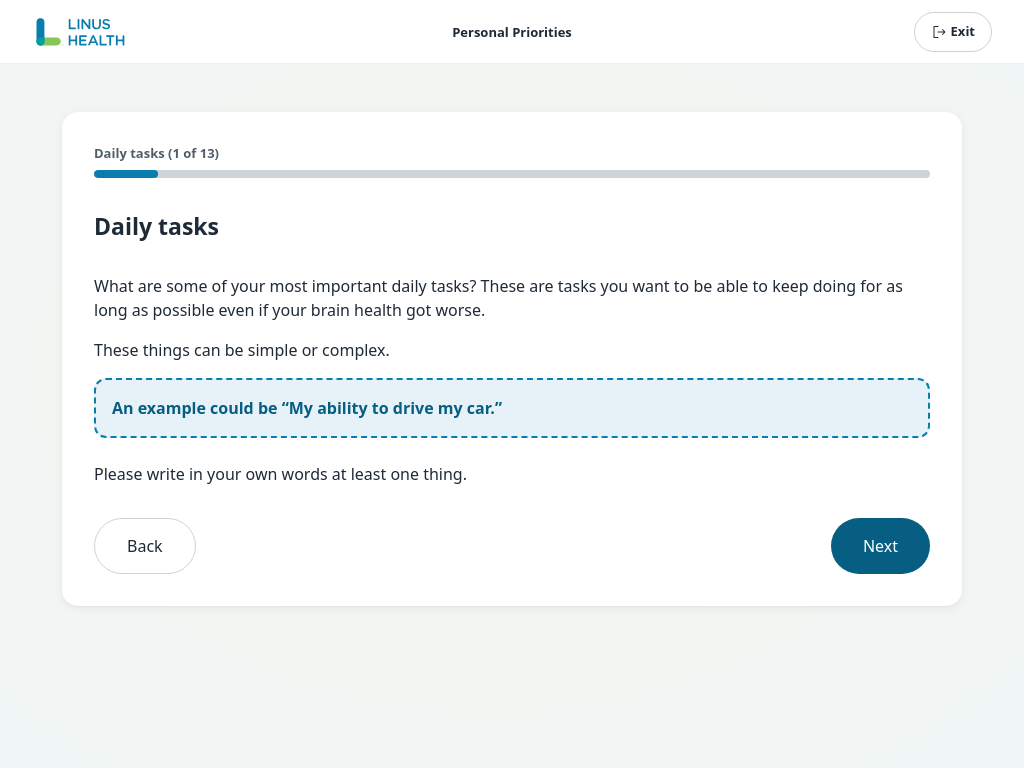
PrioritiesQuestionsPage › disables Next on a topic answer screen until text is entered
The width and height of the screenshot is (1024, 768).
Click the button "Next" at (880, 546), box [831, 518, 930, 574]
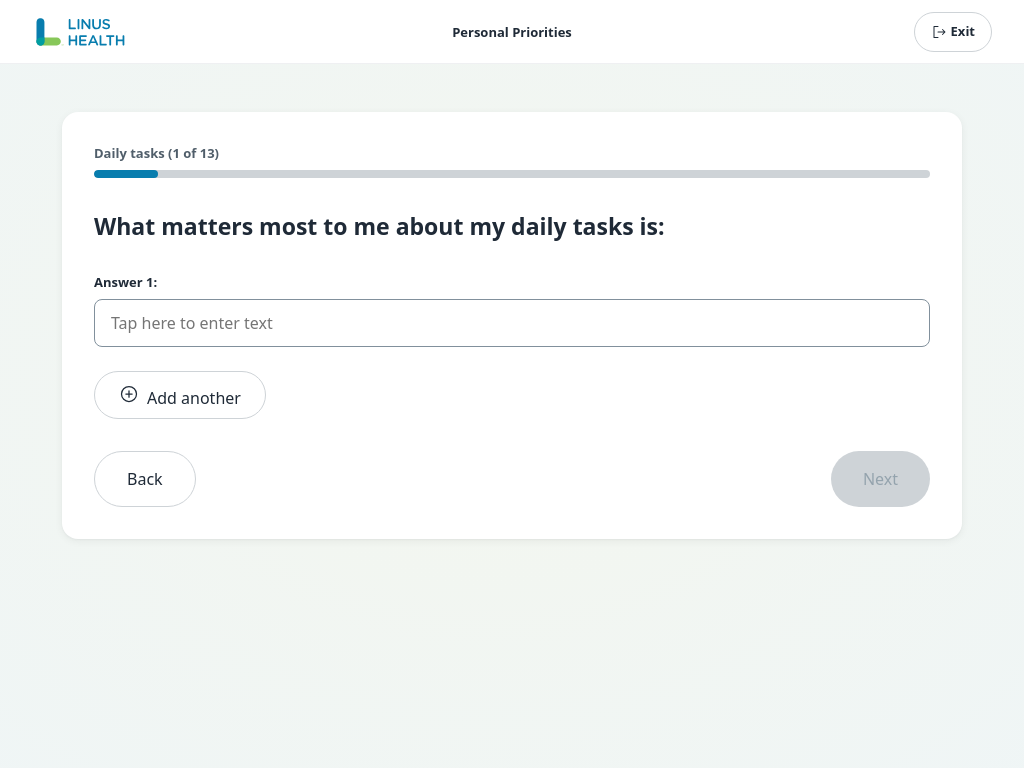
Check: the heading "What matters most to me about my daily tasks is:" is shown, box [94, 210, 665, 242]
Check: the button "Next" is disabled, box [831, 451, 930, 507]
Type "Drive my car" into the field labelled "Answer 1:" at (512, 323), box [95, 300, 929, 346]
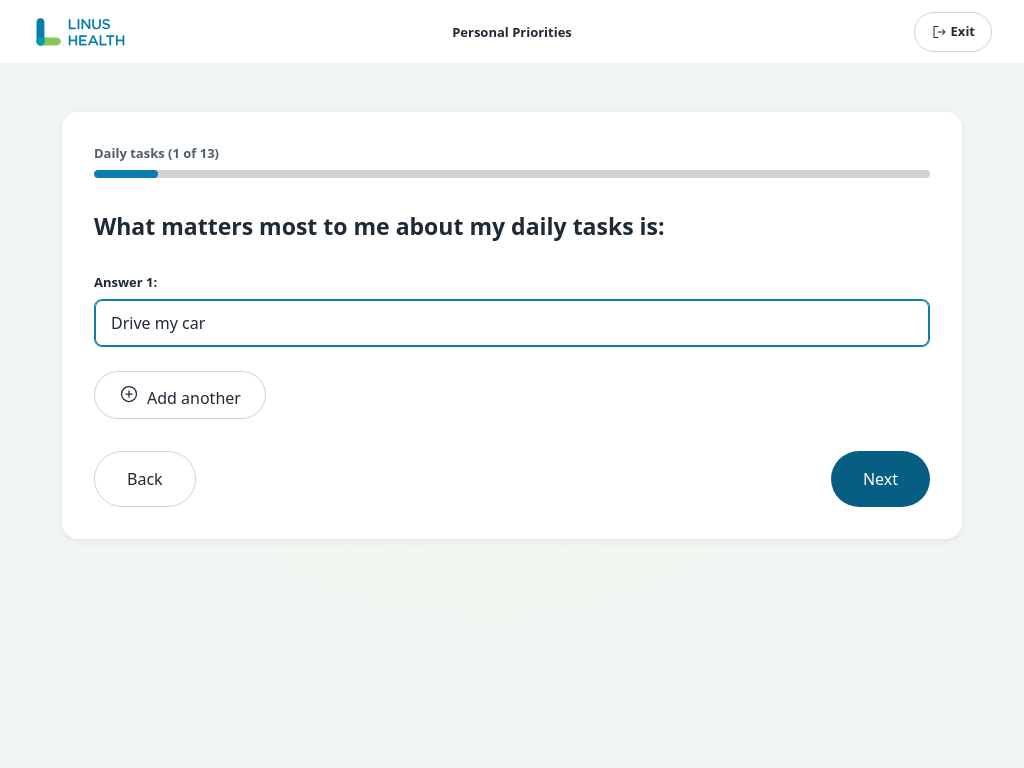
Check: the button "Next" is enabled, box [831, 451, 930, 507]
